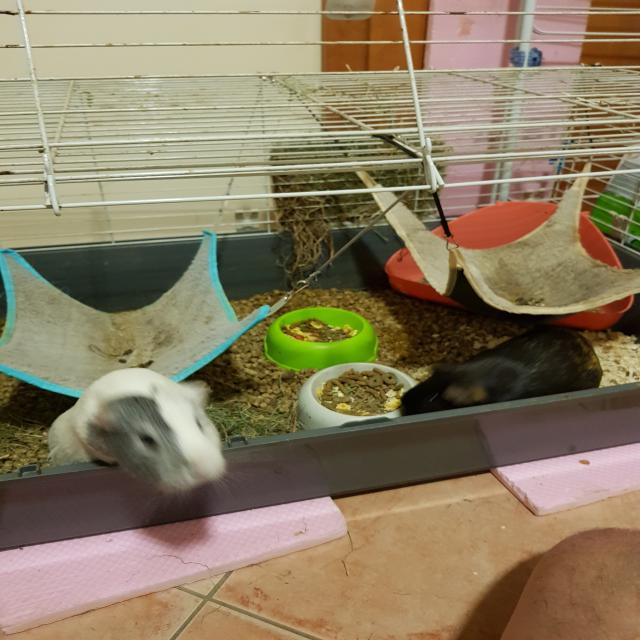guinea pig: (45, 366, 224, 497), (398, 324, 604, 416)
